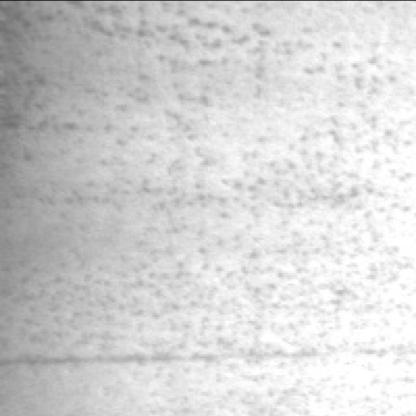pitted_surface: (6, 2, 408, 400)
